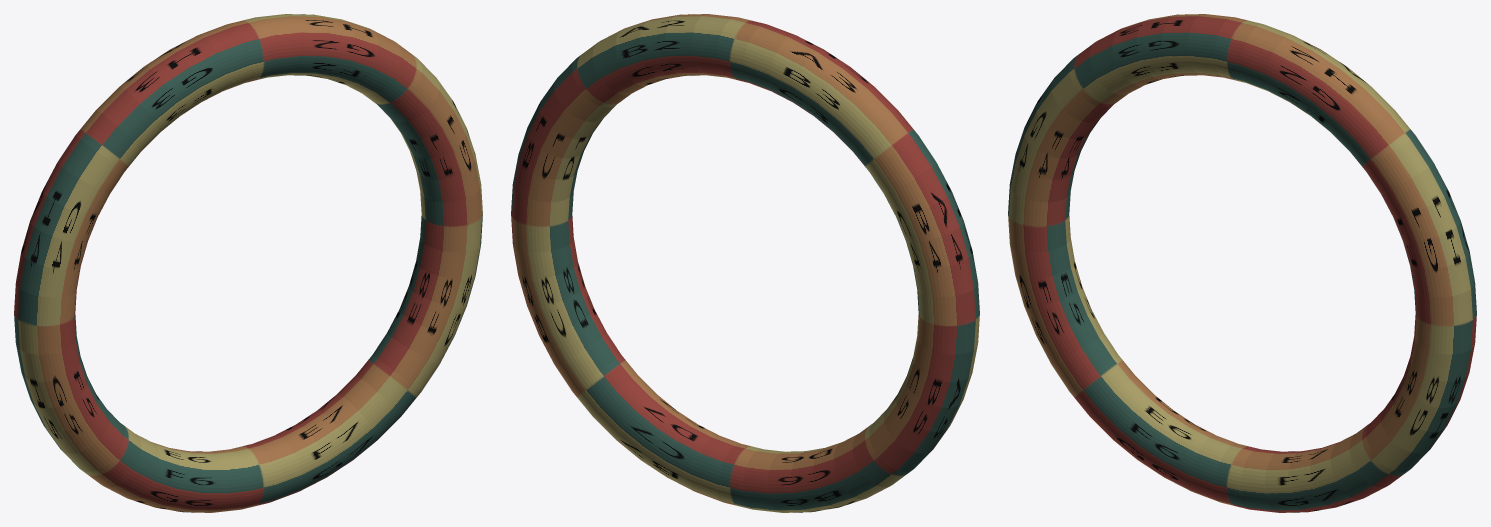
The model's file is texture_torus_R8_r0.glb.
3 views of the same model, side by side, from view 1: azimuth 30°, elevation 25°; view 2: azimuth 150°, elevation 25°; view 3: azimuth 330°, elevation 25° (orthographic).
Visible parts, largest first — view 1: world; view 2: world; view 3: world.
Boxes of the visible parts, box(x1,y1,x2,y2) form: world: box(14, 14, 482, 512); world: box(511, 14, 979, 512); world: box(1008, 14, 1476, 512).
Bounding box in the file's own units: 17.33 × 17.3 × 2.
Materials: 1 (1 with a texture image).
